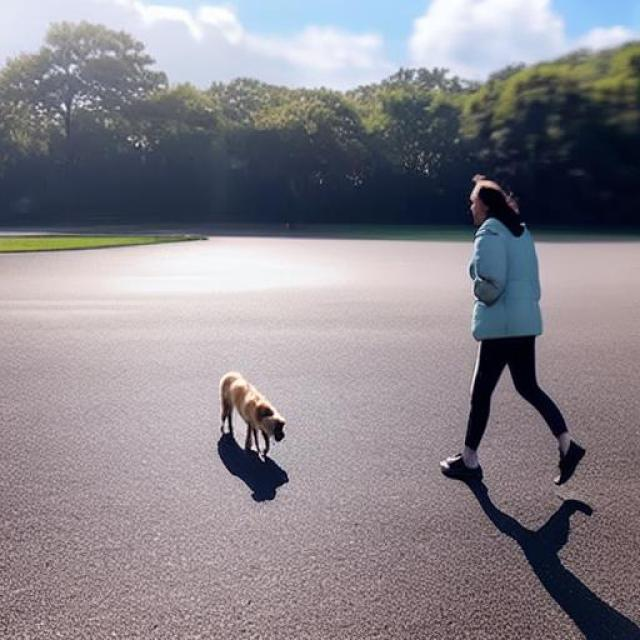Unleashed_Dog: (218, 335, 533, 461)
